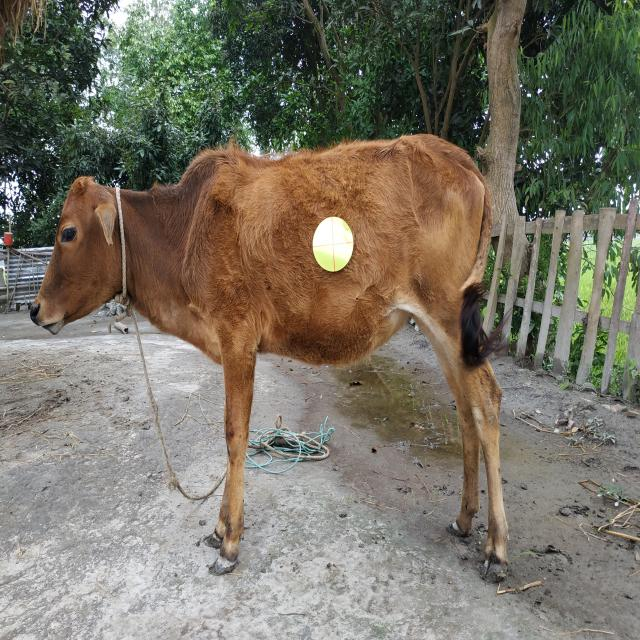badan_sapi: (181, 149, 491, 356)
sapi: (32, 131, 546, 607)
